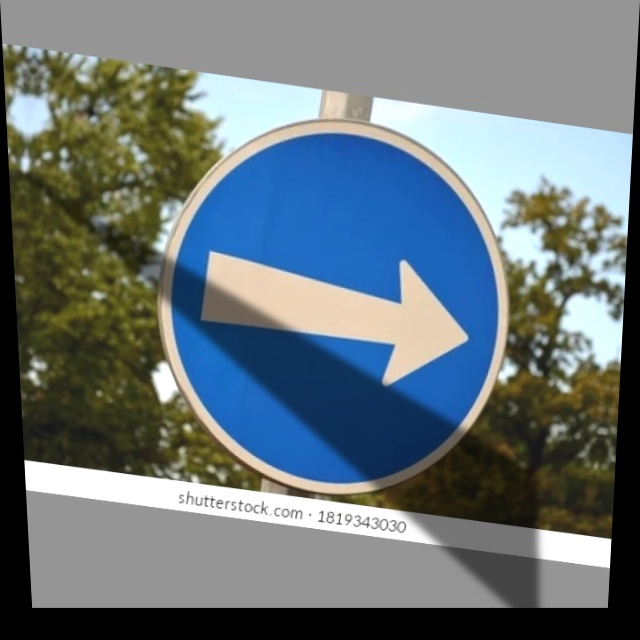Compulsory_Turn_Right: (135, 95, 530, 503)
